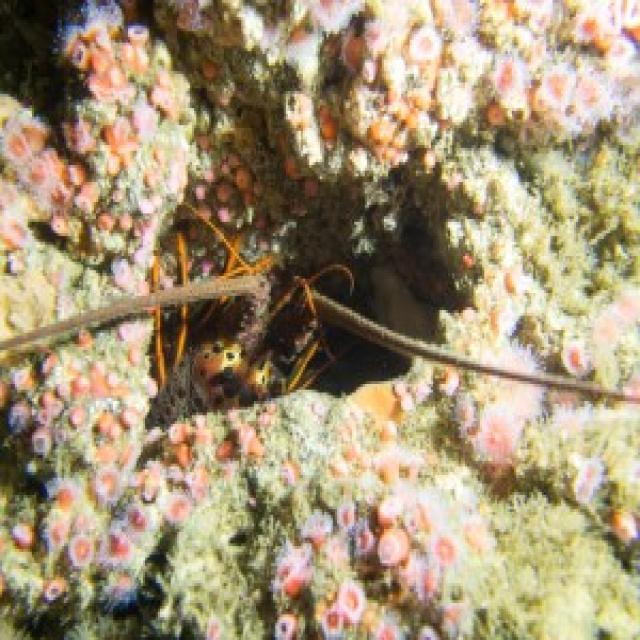lobsters: (101, 181, 450, 406)
